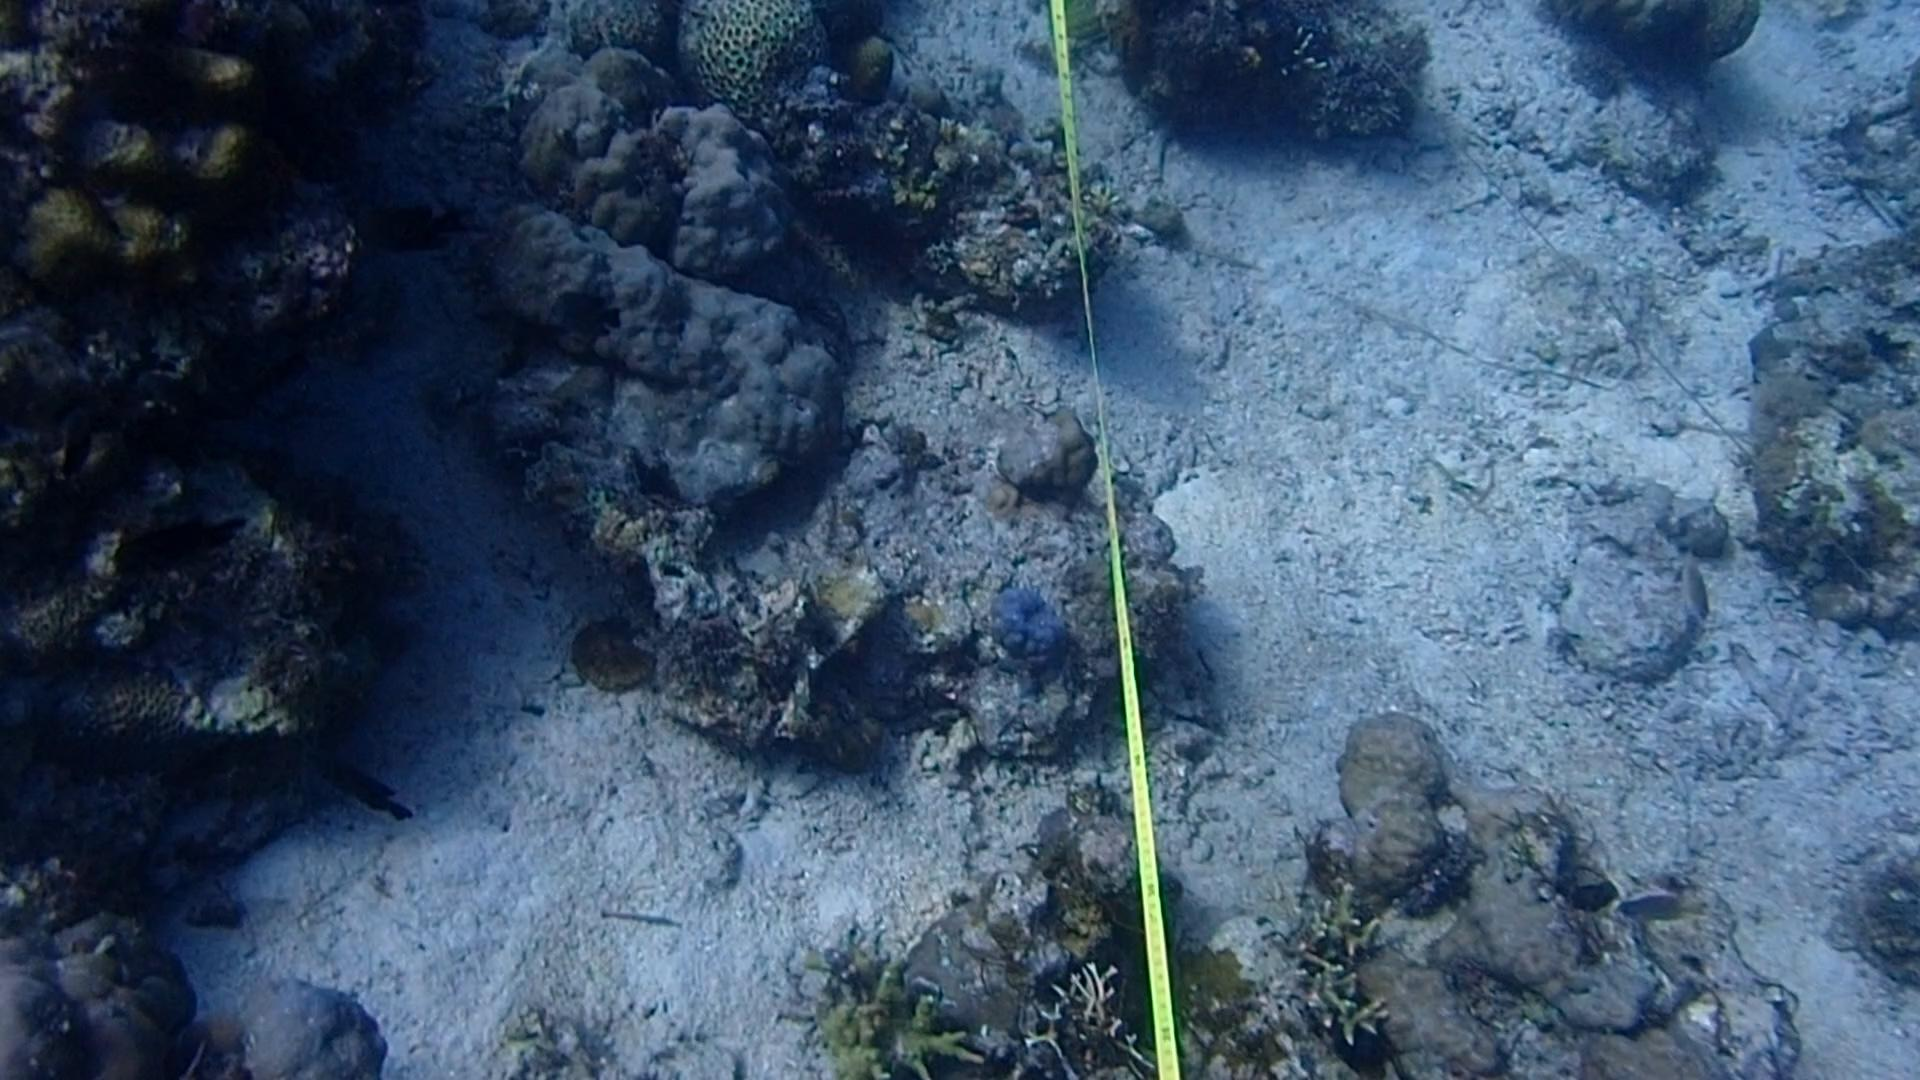Dark Fish: (103, 505, 244, 605), (298, 741, 439, 836), (335, 193, 487, 274), (98, 45, 214, 131), (541, 281, 633, 365)
Light Fish: (1671, 550, 1714, 620)
